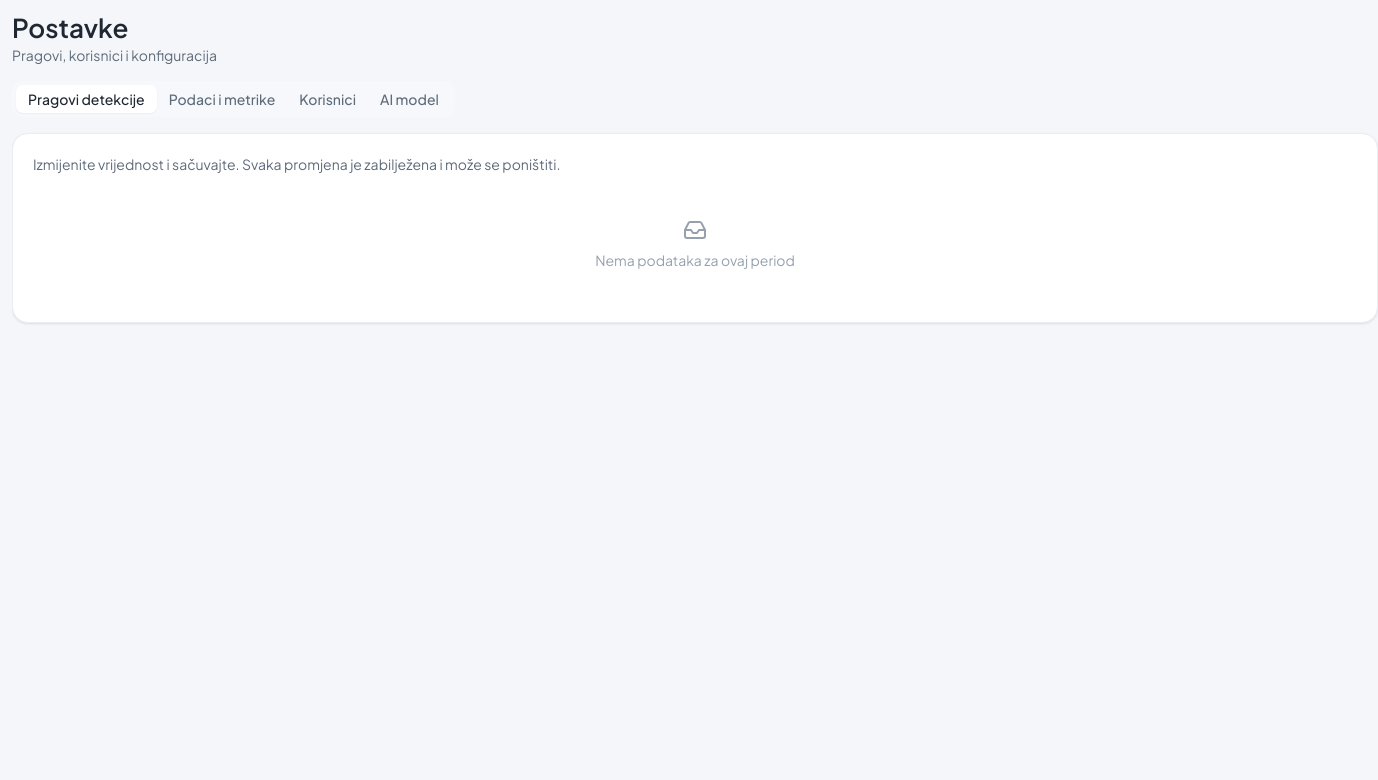
Scenario: Settings → Podaci i metrike (admin-recompute-panel) › renders the derived-table counts and last-computed time
Click the tab "Podaci i metrike" at (222, 98), box [157, 84, 287, 112]
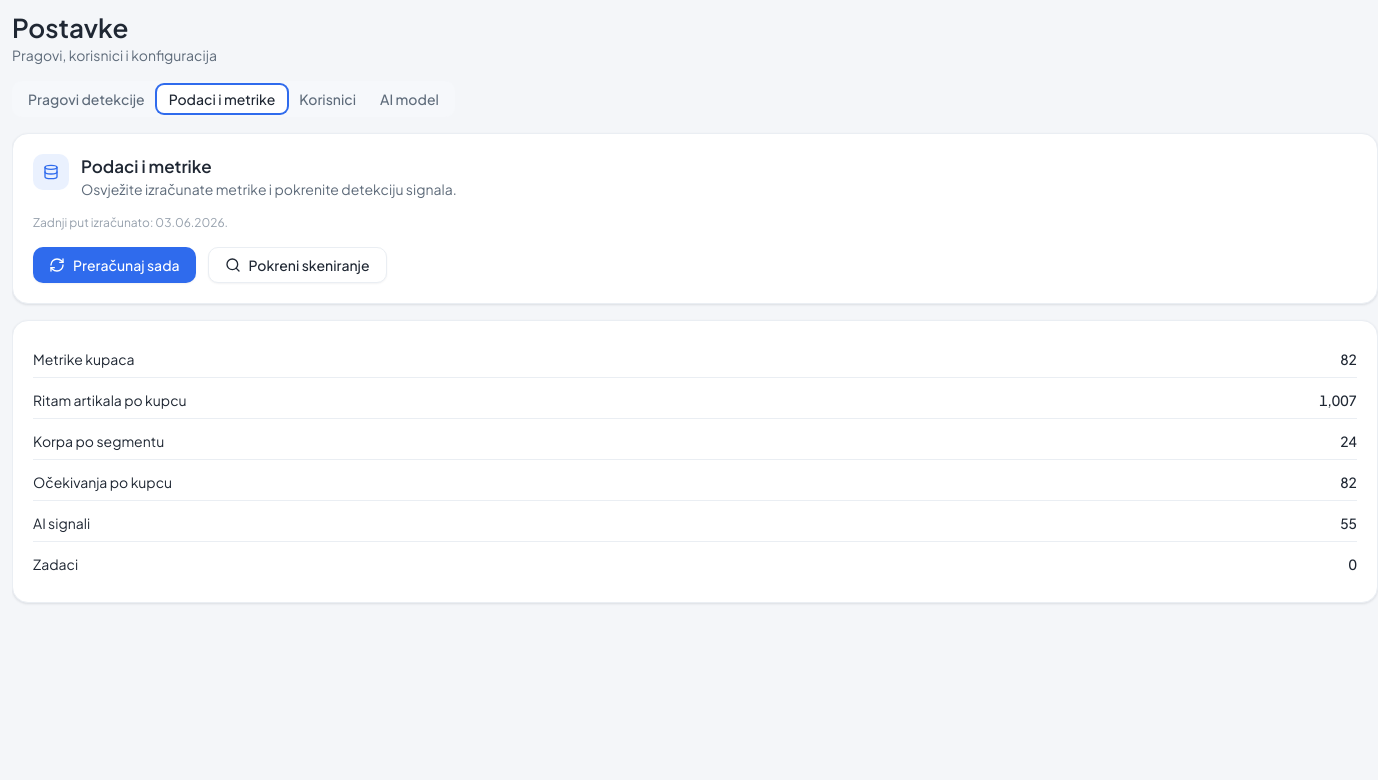
Expected: the element with test id "data-metrics-table" is shown, [12, 320, 1377, 603]
Expected: the element with test id "data-metrics-table" shows "82", [1340, 350, 1357, 368]
Expected: the element with test id "data-metrics-table" shows "55", [1340, 514, 1357, 532]
